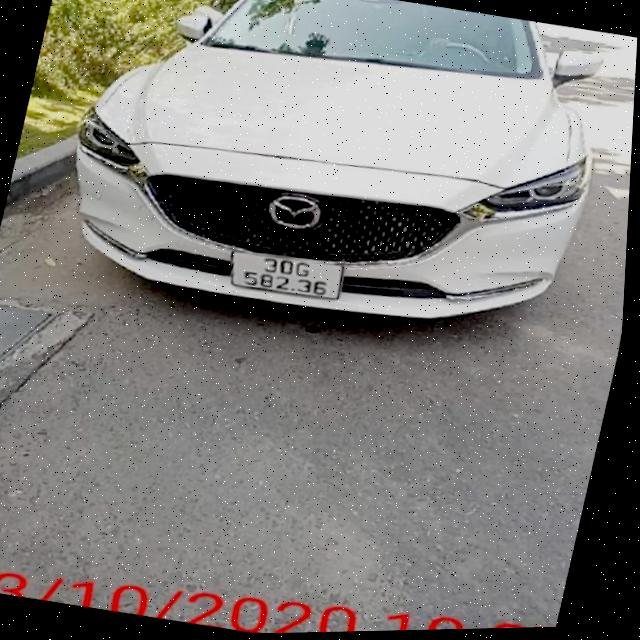car: (45, 0, 640, 376)
plate: (216, 239, 358, 314)
